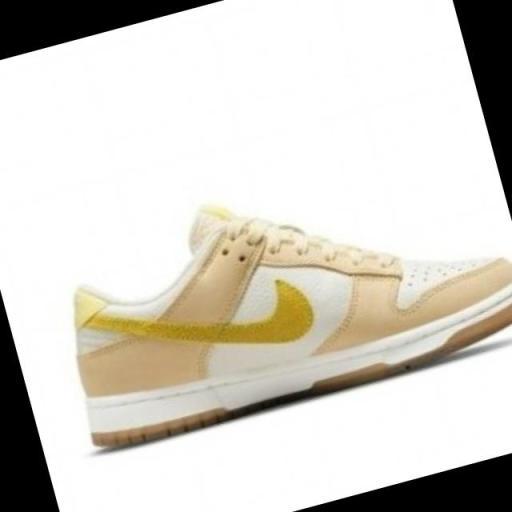Nike: (97, 262, 322, 393)
